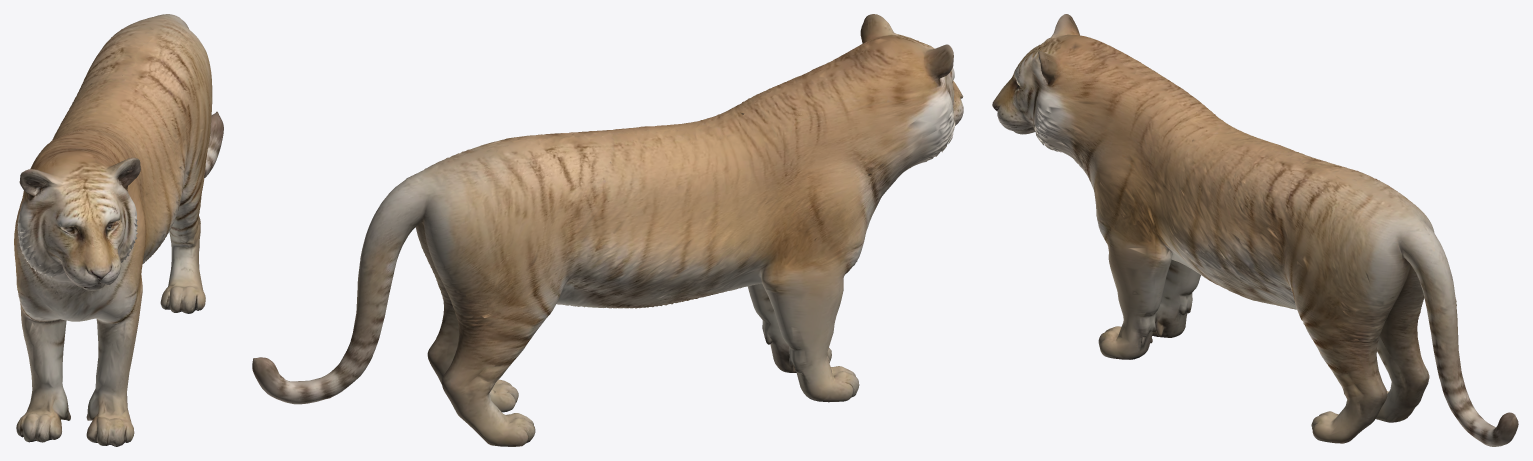
The model's file is tiger--amur.glb.
3 renders of one model, left to right at view 1: azimuth 30°, elevation 25°; view 2: azimuth 150°, elevation 25°; view 3: azimuth 270°, elevation 25°, orthographic. The views are drawn at different scales.
Parts seen in each view (by area): view 1: node_0; view 2: node_0; view 3: node_0.
Boxes of the visible parts, bbox=[...] form: node_0: bbox=[14, 14, 223, 446]; node_0: bbox=[252, 14, 963, 446]; node_0: bbox=[992, 14, 1518, 446].
Size of the model in its own units: 0.7793 by 0.5365 by 0.8818.
1 material, 1 textured.
